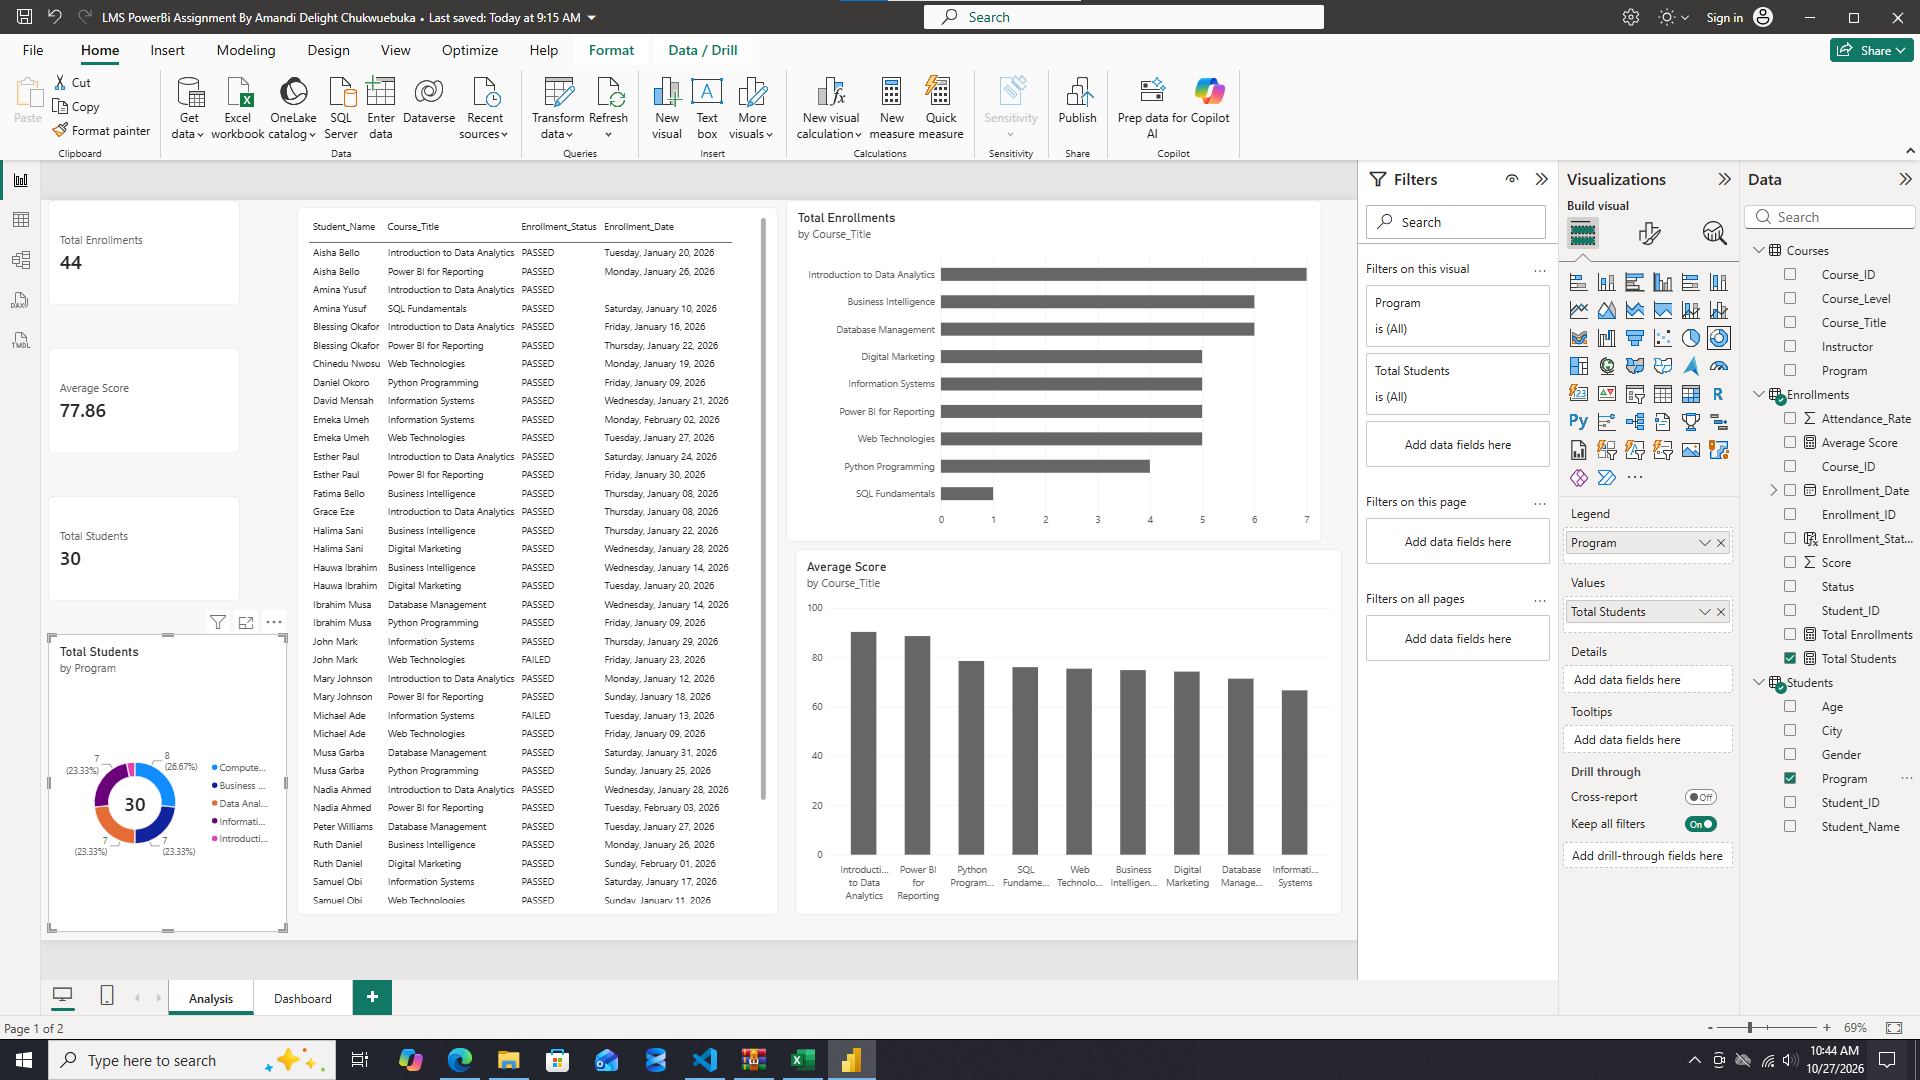

This screenshot's page, from the dashboard's own definition file:
{"tool":"powerbi","page":{"name":"Analysis","canvas":[1920,1080],"ordinal":0},"visuals":[{"type":"cardVisual","fields":{"Data":["Enrollments.Total Enrollments"]},"box":[10.2,0,280.1,153.2],"z":0},{"type":"cardVisual","fields":{"Data":["Enrollments.Average Score"]},"box":[10.2,215.9,280.1,153.2],"z":1000},{"type":"cardVisual","fields":{"Data":["Enrollments.Total Student"]},"box":[10,432.5,280,153],"z":2000},{"type":"tableEx","fields":{"Values":["Students.Student_Name","Courses.Course_Title","Enrollments.Enrollment_Status","Enrollments.Enrollment_Date"]},"box":[373.5,10.2,701.8,1032.9],"z":3000},{"type":"donutChart","fields":{"Category":["Courses.Department"],"Y":["Enrollments.Total Student"]},"box":[0,627.4,348.7,434.8],"z":4000},{"type":"clusteredBarChart","fields":{"Category":["Courses.Course_Title"],"Y":["Enrollments.Total Enrollments"]},"box":[1123.4,10.2,571.9,388.1],"z":5000},{"type":"clusteredColumnChart","fields":{"Category":["Courses.Course_Title"],"Y":["Enrollments.Average Score"]},"box":[1111.7,398.3,701.8,433.3],"z":6000}]}

Visuals, with their boxes on the page's 1920x1080 design canvas (x1, y1, x2, y2). These are canvas units, not pixel positions in the 1920x1080 screenshot, which may show the page scaled, cropped or inside an application window:
cardVisual - Enrollments.Total Enrollments: x1=10 y1=0 x2=290 y2=153
cardVisual - Enrollments.Average Score: x1=10 y1=216 x2=290 y2=369
cardVisual - Enrollments.Total Student: x1=10 y1=432 x2=290 y2=586
tableEx - Students.Student_Name x Courses.Course_Title: x1=374 y1=10 x2=1075 y2=1043
donutChart - Courses.Department x Enrollments.Total Student: x1=0 y1=627 x2=349 y2=1062
clusteredBarChart - Courses.Course_Title x Enrollments.Total Enrollments: x1=1123 y1=10 x2=1695 y2=398
clusteredColumnChart - Courses.Course_Title x Enrollments.Average Score: x1=1112 y1=398 x2=1814 y2=832
